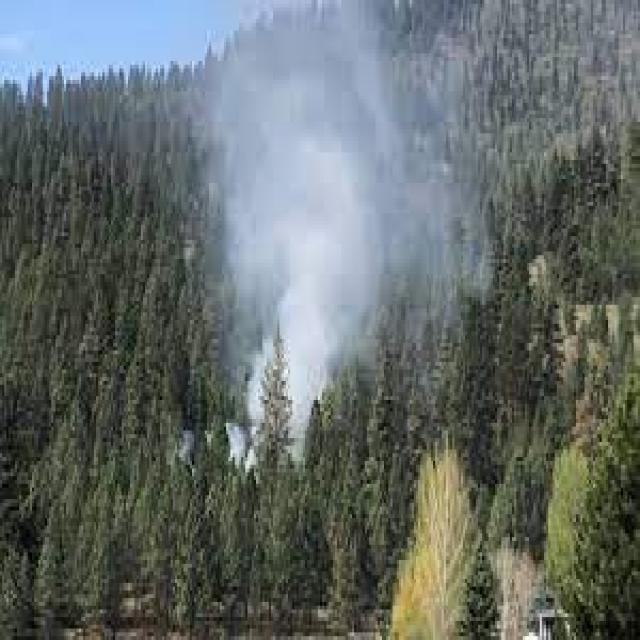Smoke: (208, 3, 404, 481), (214, 35, 499, 315)
